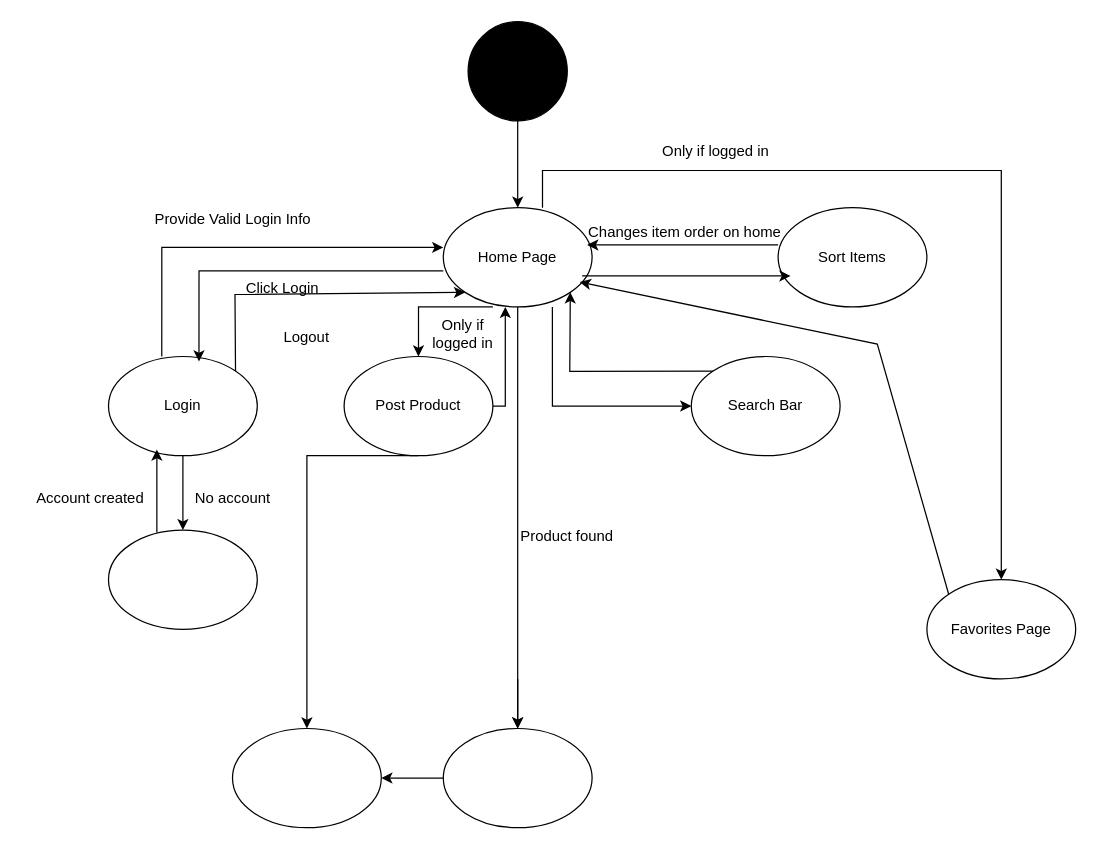
This 1097x849 diagram has some shape labels left out. The shapes that lost their labels are listed below. From the top down, each one's centre as x and y in pixels, then its label:
At point 182,579: "Create Account".
At point 306,777: "Remove Listing".
At point 517,777: "Contact Seller".
